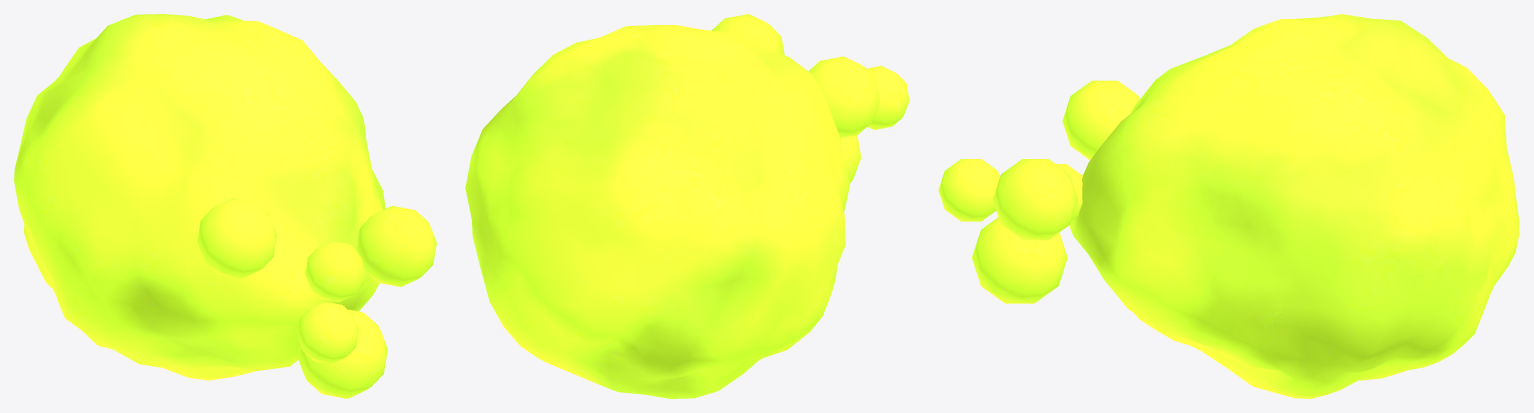
File: bile_glob.glb
3 renders of one model, left to right at view 1: azimuth 30°, elevation 25°; view 2: azimuth 150°, elevation 25°; view 3: azimuth 270°, elevation 25°, orthographic. The views are drawn at different scales.
Parts seen in each view (by area): view 1: BileGlob; view 2: BileGlob; view 3: BileGlob.
Part boxes in pixels (left/top/right/bottom): BileGlob: left=14, top=14, right=436, bottom=398; BileGlob: left=465, top=14, right=909, bottom=398; BileGlob: left=938, top=14, right=1519, bottom=398.
Size of the model in its own units: 0.3611 by 0.3636 by 0.5559.
Materials: 1 (1 with a texture image).
